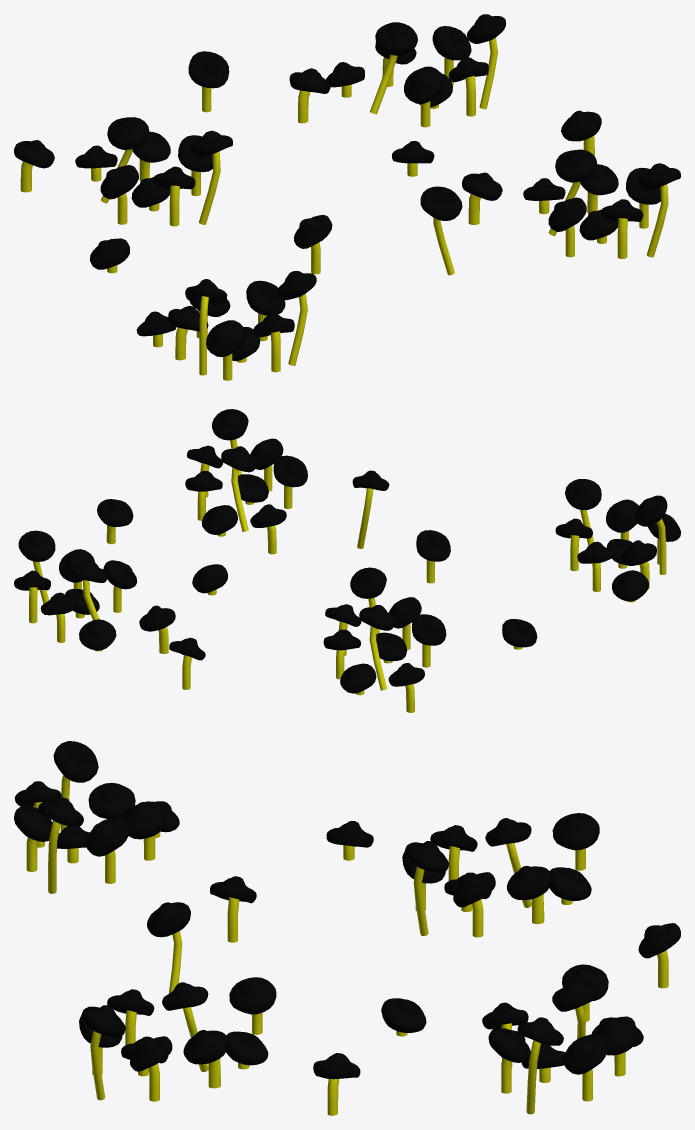
File: Mushroom_FullTile_lp.fbx
3 views of the same model, one above another, from view 1: azimuth 30°, elevation 25°; view 2: azimuth 150°, elevation 25°; view 3: azimuth 270°, elevation 25° (orthographic). The views are drawn at different scales.
Parts seen in each view (by area): view 1: Full_MushroomTile_lp; view 2: Full_MushroomTile_lp; view 3: Full_MushroomTile_lp.
Boxes of the visible parts, bbox=[...] form: Full_MushroomTile_lp: bbox=[14, 14, 680, 380]; Full_MushroomTile_lp: bbox=[14, 409, 680, 712]; Full_MushroomTile_lp: bbox=[14, 741, 680, 1115].
Bounding box in the file's own units: 2.73 × 0.4585 × 2.62.
